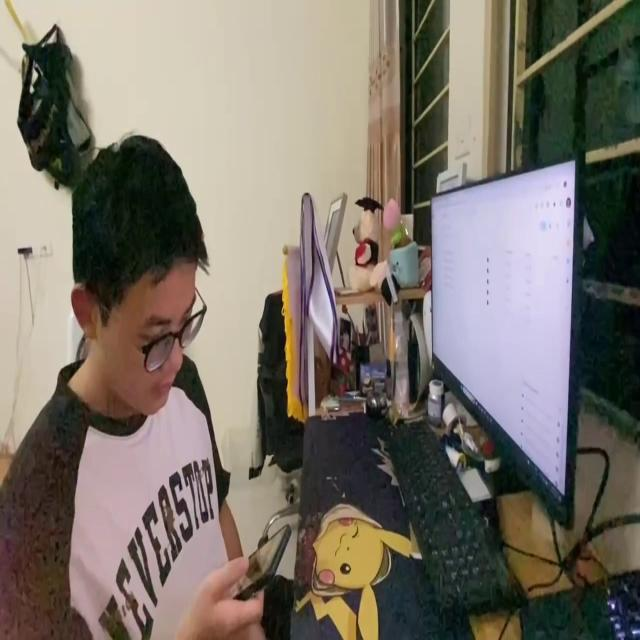laptop: (423, 145, 585, 536)
phone: (229, 522, 292, 592)
student: (0, 125, 286, 640)
